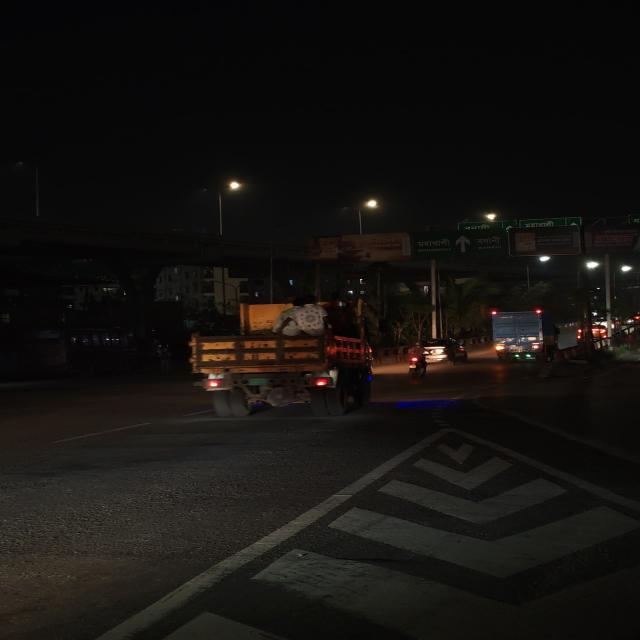car: (420, 336, 469, 364), (575, 320, 610, 340)
motorcycle: (399, 344, 432, 378)
pickup_van: (183, 300, 377, 419)
truck: (488, 309, 548, 361)
